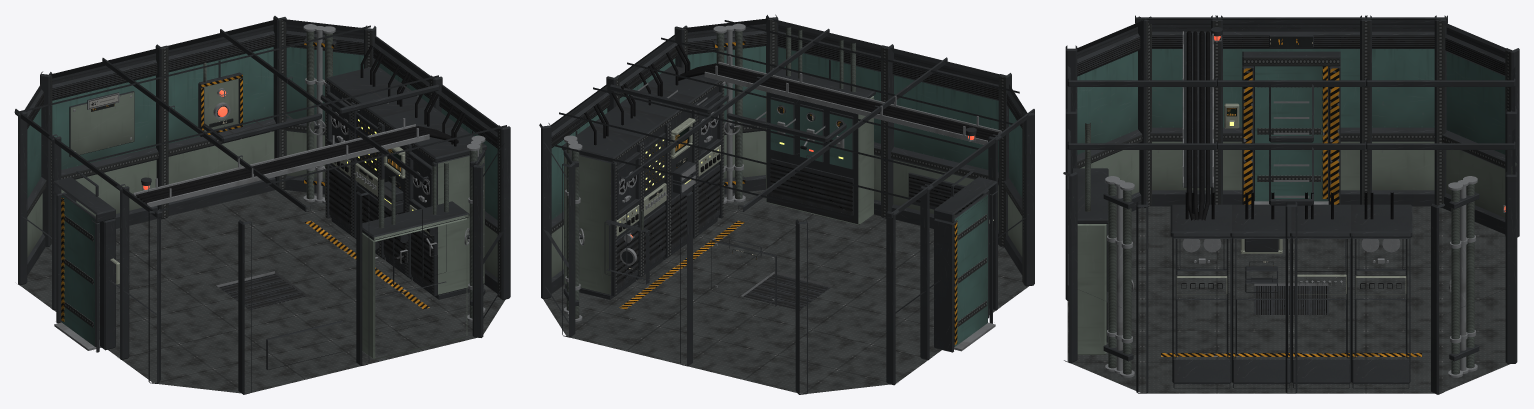
Rendered from ROOM_engineering.glb.
The picture shows the model from 3 angles, left to right: view 1: azimuth 30°, elevation 25°; view 2: azimuth 150°, elevation 25°; view 3: azimuth 270°, elevation 25°; orthographic projection. The views are drawn at different scales.
Parts seen in each view (by area): view 1: ST_engineering_wall_08, ST_engineering_wall_07, CORE_rack_04, ST_engineering_floor_05, ST_engineering_floor_06, ST_engineering_floor_04, ST_engineering_floor_01, ST_engineering_wall_11, DET_engineering_power_unit, DET_engineering_cable_tray, ST_engineering_wall_04, ST_engineering_wall_06 (+30 smaller); view 2: ST_engineering_wall_01, DET_engineering_power_unit, CORE_rack_01, ST_engineering_floor_05, ST_engineering_floor_06, ST_engineering_wall_11, ST_engineering_floor_03, ST_engineering_wall_02, ST_engineering_floor_04, ST_engineering_wall_03, DET_engineering_cable_tray, ST_engineering_floor_09 (+30 smaller); view 3: ST_engineering_wall_11, ST_engineering_wall_10, ST_engineering_wall_09, ST_engineering_wall_13, DOOR_engineering, ST_engineering_floor_05, ST_engineering_wall_12, ST_engineering_floor_06, CORE_rack_01, CORE_rack_04, DET_engineering_power_unit, CORE_rack_03 (+29 smaller).
Boxes of the visible parts, x1,y1,x2,y2 form: ST_engineering_wall_08: [46, 44, 168, 244]; ST_engineering_wall_07: [164, 16, 286, 215]; CORE_rack_04: [407, 105, 486, 299]; ST_engineering_floor_05: [170, 251, 354, 329]; ST_engineering_floor_06: [116, 203, 286, 279]; ST_engineering_floor_04: [244, 301, 422, 379]; ST_engineering_floor_01: [122, 330, 304, 393]; ST_engineering_wall_11: [48, 135, 119, 352]; DET_engineering_power_unit: [362, 163, 469, 359]; DET_engineering_cable_tray: [133, 118, 458, 207]; ST_engineering_wall_04: [434, 78, 510, 299]; ST_engineering_wall_06: [276, 18, 376, 194]; ST_engineering_wall_01: [886, 46, 1011, 247]; DET_engineering_power_unit: [766, 26, 875, 224]; CORE_rack_01: [562, 103, 641, 299]; ST_engineering_floor_05: [694, 251, 879, 329]; ST_engineering_floor_06: [626, 301, 811, 379]; ST_engineering_wall_11: [920, 171, 997, 360]; ST_engineering_floor_03: [744, 330, 927, 393]; ST_engineering_wall_02: [767, 17, 893, 218]; ST_engineering_floor_04: [762, 214, 933, 280]; ST_engineering_wall_03: [680, 14, 778, 194]; DET_engineering_cable_tray: [678, 55, 1001, 144]; ST_engineering_floor_09: [543, 284, 693, 351]; ST_engineering_wall_11: [1217, 15, 1371, 204]; ST_engineering_wall_10: [1366, 15, 1446, 207]; ST_engineering_wall_09: [1437, 19, 1519, 237]; ST_engineering_wall_13: [1074, 16, 1151, 211]; DOOR_engineering: [1254, 66, 1328, 201]; ST_engineering_floor_05: [1217, 267, 1365, 330]; ST_engineering_wall_12: [1142, 15, 1222, 206]; ST_engineering_floor_06: [1366, 267, 1505, 330]; CORE_rack_01: [1349, 192, 1412, 388]; CORE_rack_04: [1170, 192, 1233, 388]; DET_engineering_power_unit: [1071, 123, 1108, 354]; CORE_rack_03: [1230, 192, 1292, 388].
Bounding box in the file's own units: 6.31 × 2.87 × 6.12.
Materials: 8 (4 with a texture image).
